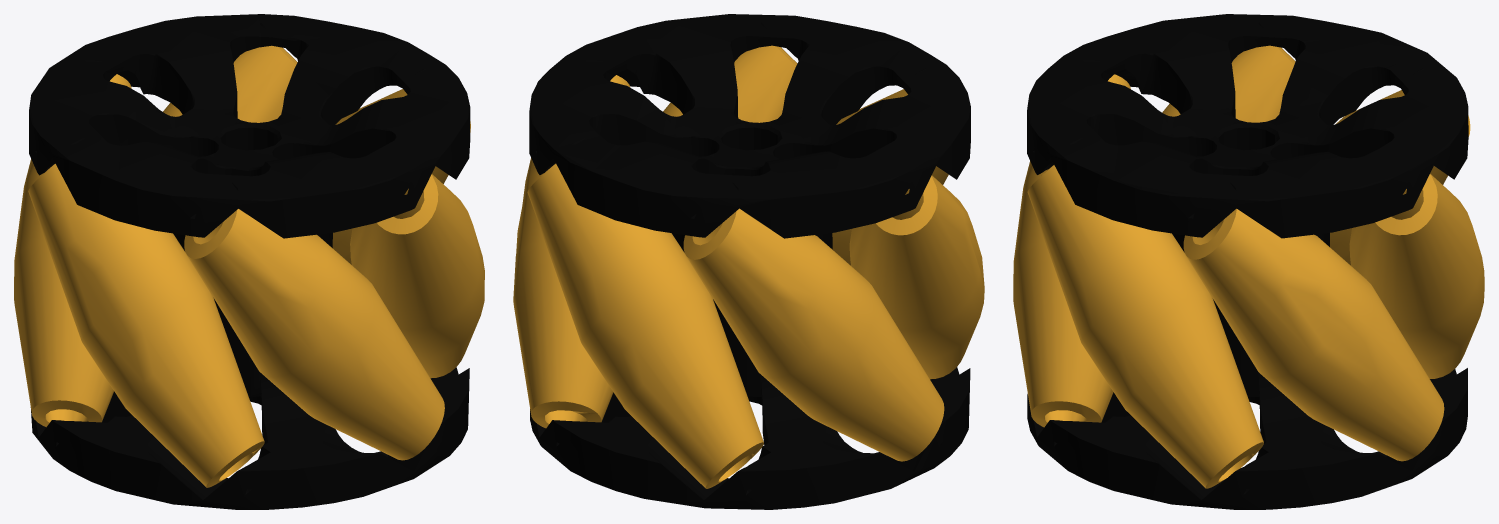
File: YoubotPlatform_BackLeftWheel.dae
3 views of the same model, side by side, from view 1: azimuth 30°, elevation 25°; view 2: azimuth 150°, elevation 25°; view 3: azimuth 270°, elevation 25° (orthographic).
Parts seen in each view (by area): view 1: back-left_wheel_outer, back-left_wheel_inner; view 2: back-left_wheel_inner, back-left_wheel_outer; view 3: back-left_wheel_inner, back-left_wheel_outer.
Boxes of the visible parts, x1,y1,x2,y2 form: back-left_wheel_outer: (29, 14, 470, 509); back-left_wheel_inner: (14, 45, 484, 487); back-left_wheel_inner: (513, 45, 984, 488); back-left_wheel_outer: (529, 14, 970, 509); back-left_wheel_inner: (1013, 45, 1484, 488); back-left_wheel_outer: (1027, 14, 1468, 509).
Bounding box in the file's own units: 0.0993 × 0.0997 × 0.0731.
